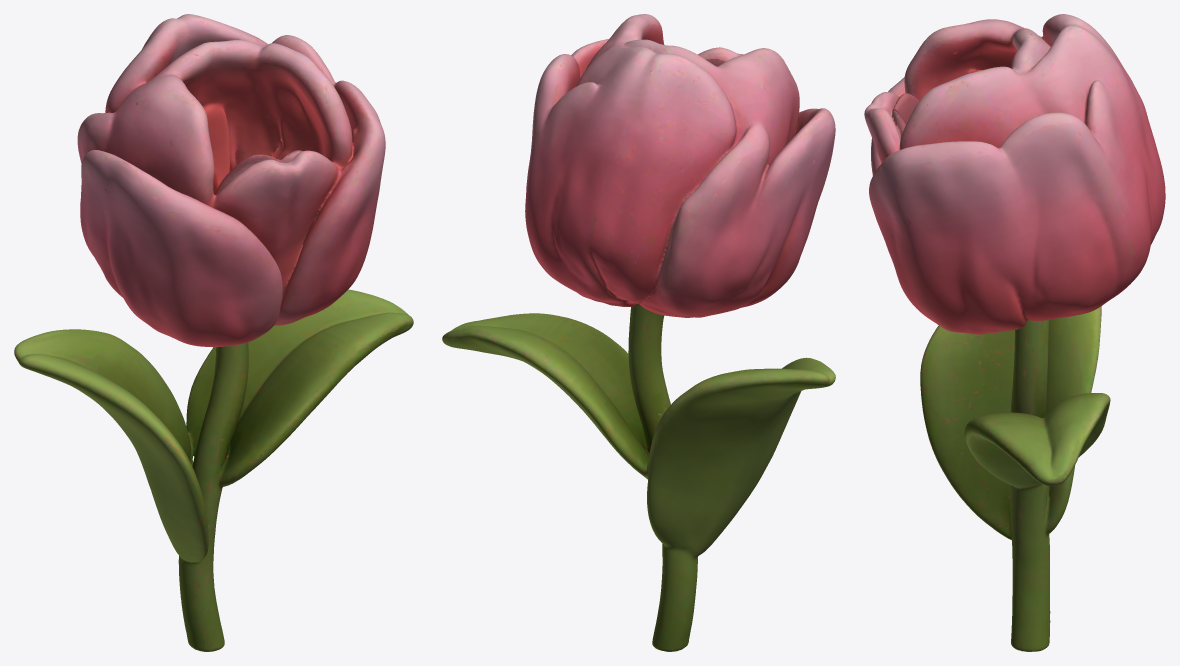
File: tulip.glb
3 views of the same model, side by side, from view 1: azimuth 30°, elevation 25°; view 2: azimuth 150°, elevation 25°; view 3: azimuth 270°, elevation 25° (orthographic). The views are drawn at different scales.
Visible parts, largest first — view 1: geometry_0; view 2: geometry_0; view 3: geometry_0.
Boxes of the visible parts, x1,y1,x2,y2 form: geometry_0: (14, 14, 413, 651); geometry_0: (442, 14, 835, 651); geometry_0: (864, 14, 1165, 651).
Size of the model in its own units: 0.6687 by 1 by 0.4397.
Materials: 1 (1 with a texture image).
